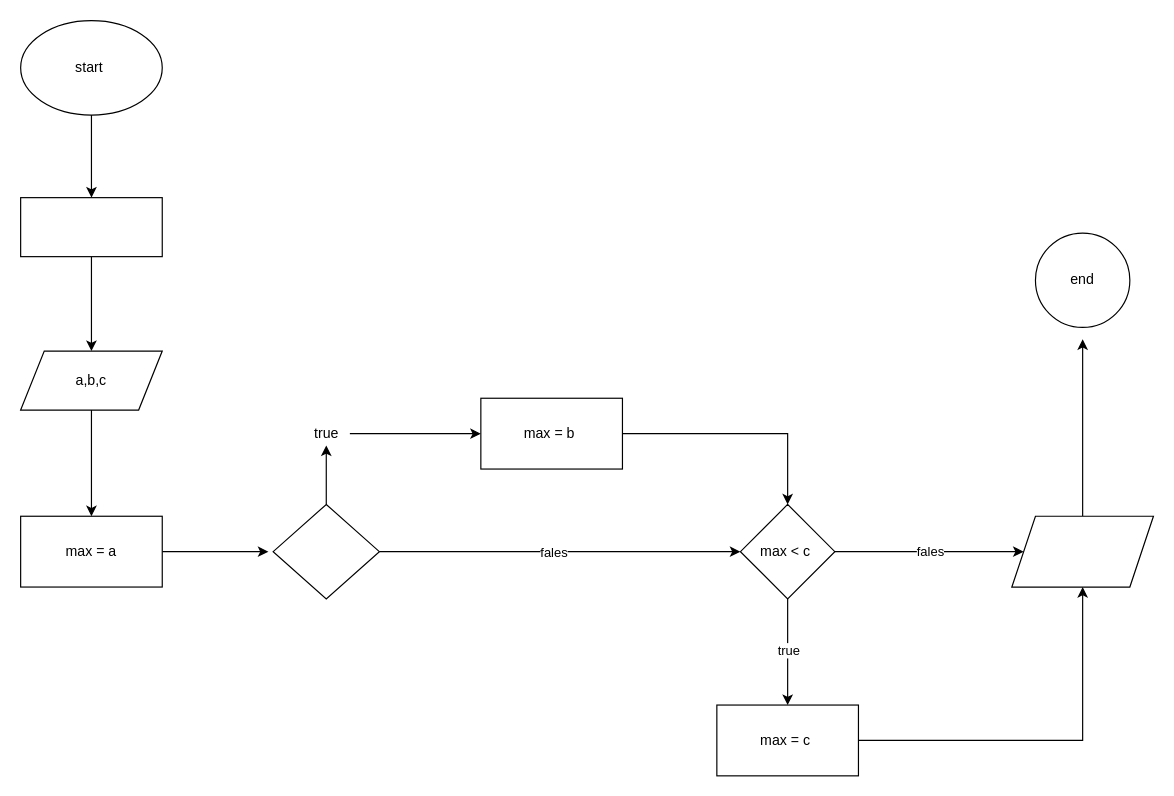
This 1174x796 diagram has some shape labels left out. The box of each missing label's shape, as (x1, y1, x2, y2) in pixels:
a,b,c max: (19, 196, 162, 257)
max: (1011, 515, 1153, 587)
max < b: (272, 503, 379, 599)
